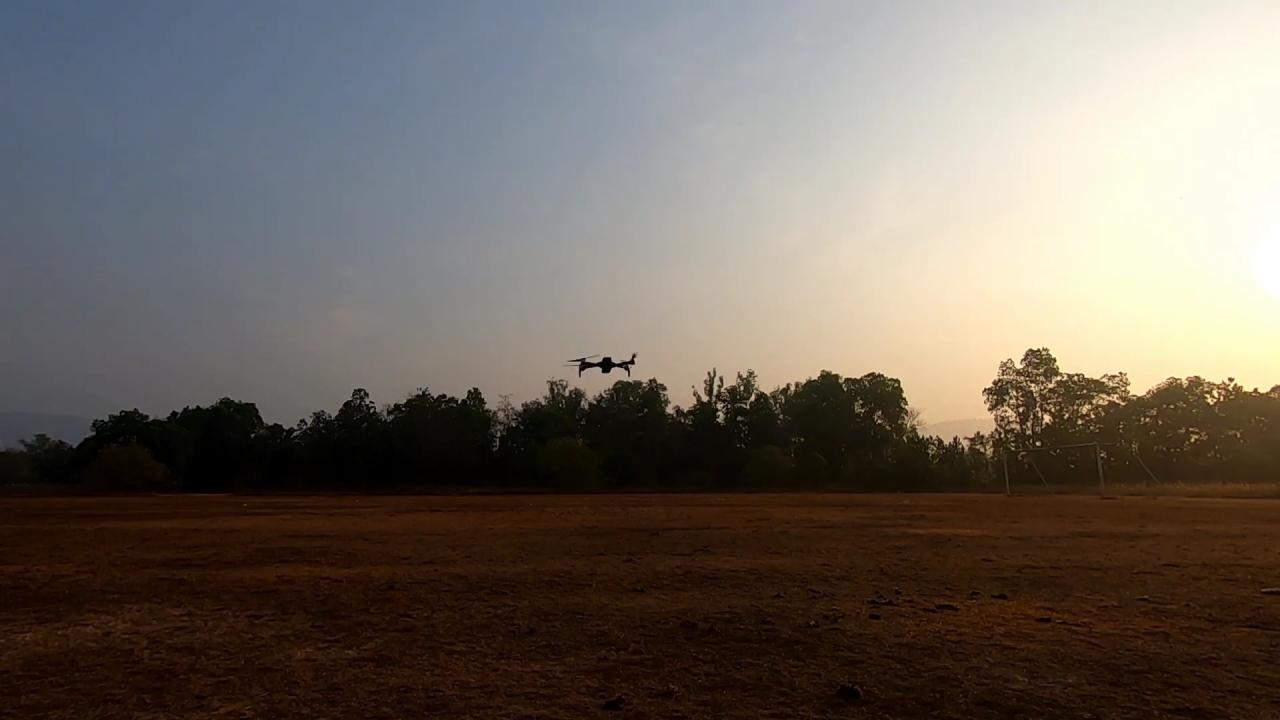Drone: (558, 345, 647, 386)
